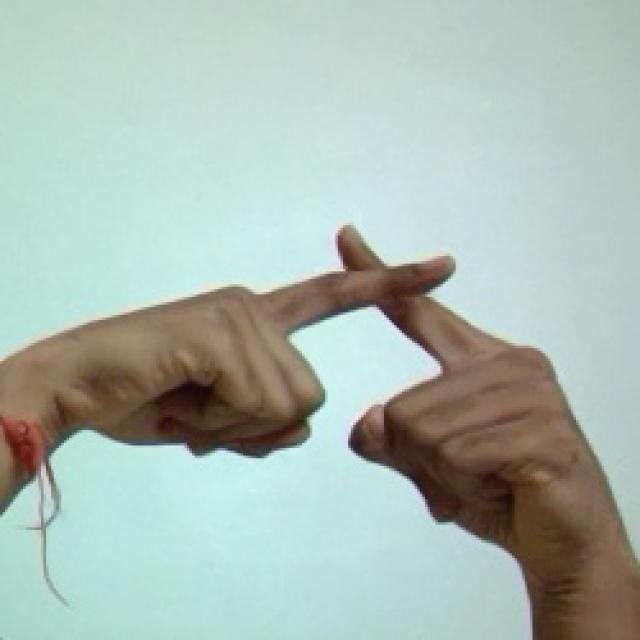Alphabet-X: (59, 220, 606, 548)
